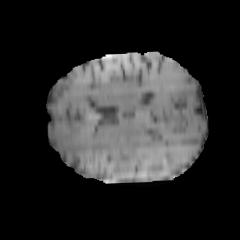glioma: (50, 129, 160, 179)
